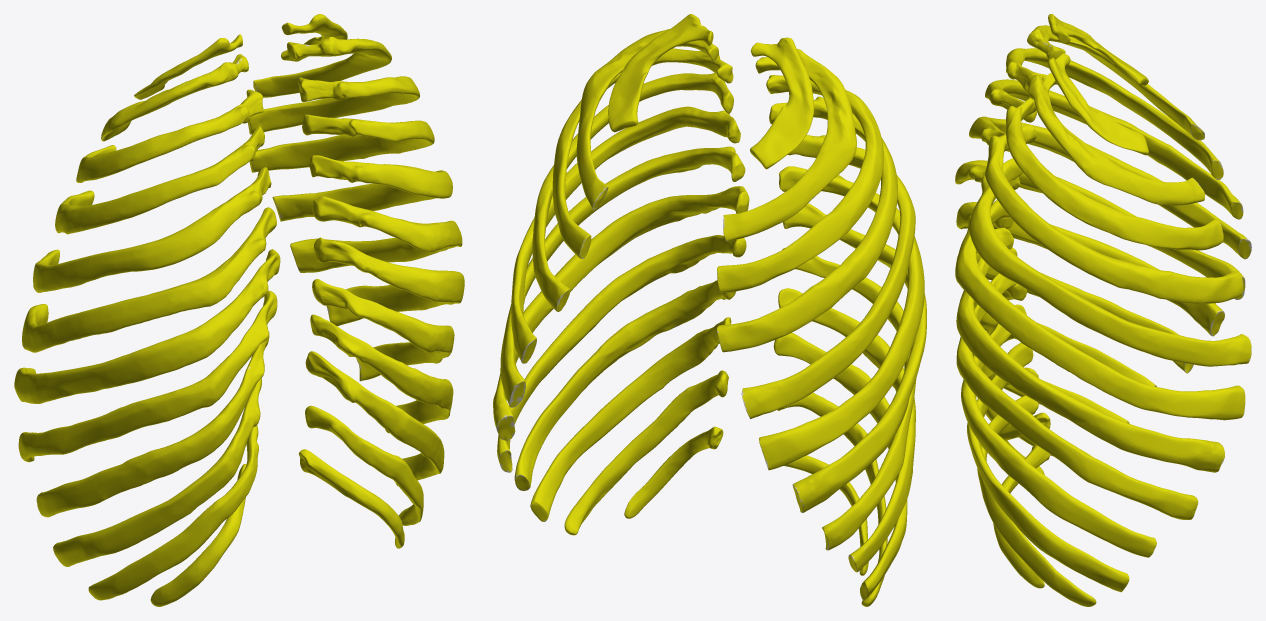
Rendered from ribs_only.glb.
3 views of the same model, side by side, from view 1: azimuth 30°, elevation 25°; view 2: azimuth 150°, elevation 25°; view 3: azimuth 270°, elevation 25° (orthographic). The views are drawn at different scales.
Parts seen in each view (by area): view 1: rib_L07, rib_L06, rib_L08, rib_L09, rib_L05, rib_L10, rib_R05, rib_R04, rib_R06, rib_R07, rib_L04, rib_R03 (+12 smaller); view 2: rib_L06, rib_L04, rib_L05, rib_L03, rib_L02, rib_R07, rib_R09, rib_R08, rib_L07, rib_R10, rib_R05, rib_R06 (+12 smaller); view 3: rib_R06, rib_R05, rib_R07, rib_R04, rib_R08, rib_R03, rib_R09, rib_R02, rib_R10, rib_L03, rib_L04, rib_R11 (+11 smaller).
Boxes of the visible parts, box(x1,y1,x2,y2) form: rib_L07: box(14, 249, 280, 403); rib_L06: box(22, 207, 276, 352); rib_L08: box(18, 290, 277, 462); rib_L09: box(36, 331, 269, 517); rib_L05: box(33, 167, 271, 292); rib_L10: box(53, 378, 261, 566); rib_R05: box(272, 155, 452, 221); rib_R04: box(249, 114, 434, 172); rib_R06: box(290, 196, 462, 272); rib_R07: box(314, 237, 464, 326); rib_L04: box(55, 126, 264, 234); rib_R03: box(247, 76, 419, 134); rib_L06: box(759, 166, 924, 470); rib_L04: box(716, 96, 897, 352); rib_L05: box(741, 135, 915, 418); rib_L03: box(717, 75, 883, 292); rib_L02: box(723, 49, 856, 241); rib_R07: box(493, 186, 749, 440); rib_R09: box(514, 280, 736, 490); rib_R08: box(497, 235, 746, 472); rib_L07: box(782, 203, 926, 512); rib_R10: box(530, 317, 731, 521); rib_R05: box(511, 106, 740, 363); rib_R06: box(500, 146, 745, 407); rib_R06: box(955, 200, 1245, 420); rib_R05: box(969, 158, 1251, 366); rib_R07: box(956, 227, 1224, 472); rib_R04: box(985, 125, 1243, 303); rib_R08: box(956, 273, 1198, 519); rib_R03: box(1006, 97, 1223, 250); rib_R09: box(961, 304, 1156, 557); rib_R02: box(1027, 72, 1204, 205); rib_R10: box(967, 343, 1129, 592); rib_L03: box(1006, 48, 1223, 179); rib_L04: box(985, 79, 1243, 219); rib_R11: box(977, 395, 1096, 606).
Bounding box in the file's own units: 0.2728 × 0.3624 × 0.194.
